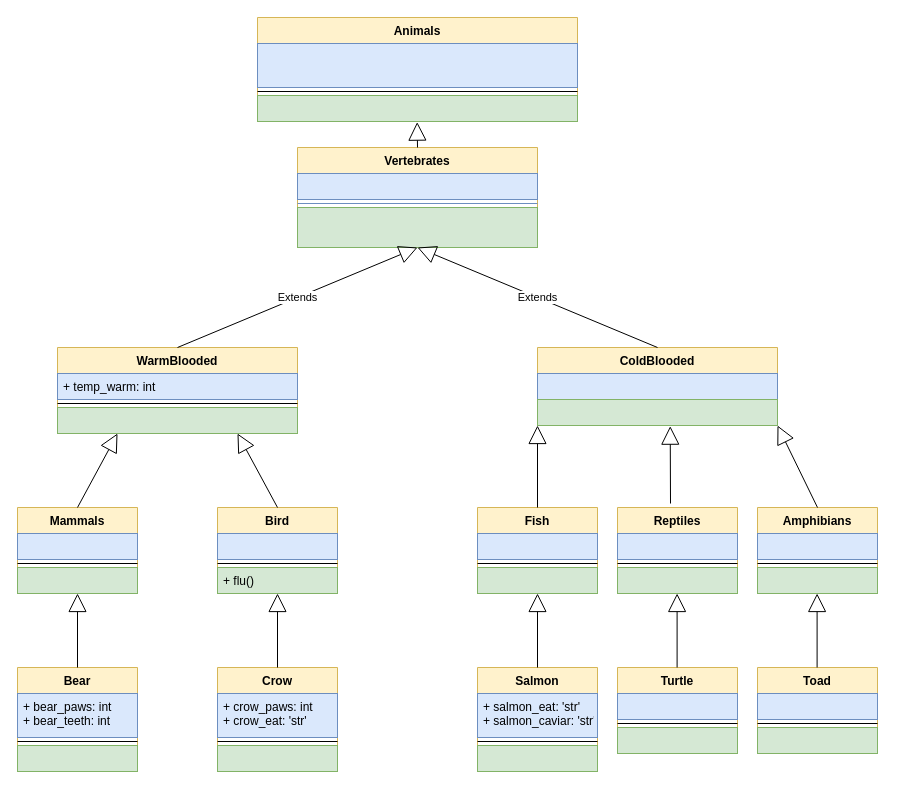
Image size: 903x789. Some labels were removed from this diagram. Each missing label, with the centre of its shape:
+ age: int + gender: 'str': (417,65)
+ crawl(): (677,580)
+ feed_milk(): (77,580)
+ mixit(): (817,580)
+ swim(): (537,580)
+ temp_cold: int: (657,386)
+ toad_eat: 'str': (817,706)
+ turtle_lifesplan: 'str': (677,706)
+ vertebrata_definition() +__init__(): (417,227)
